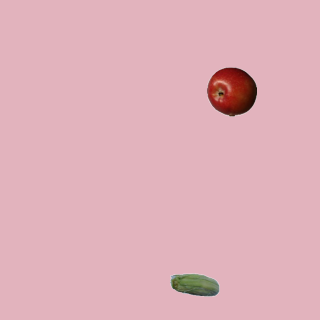Apple Braeburn: (206, 66, 256, 116)
Corn Husk: (169, 261, 219, 311)
